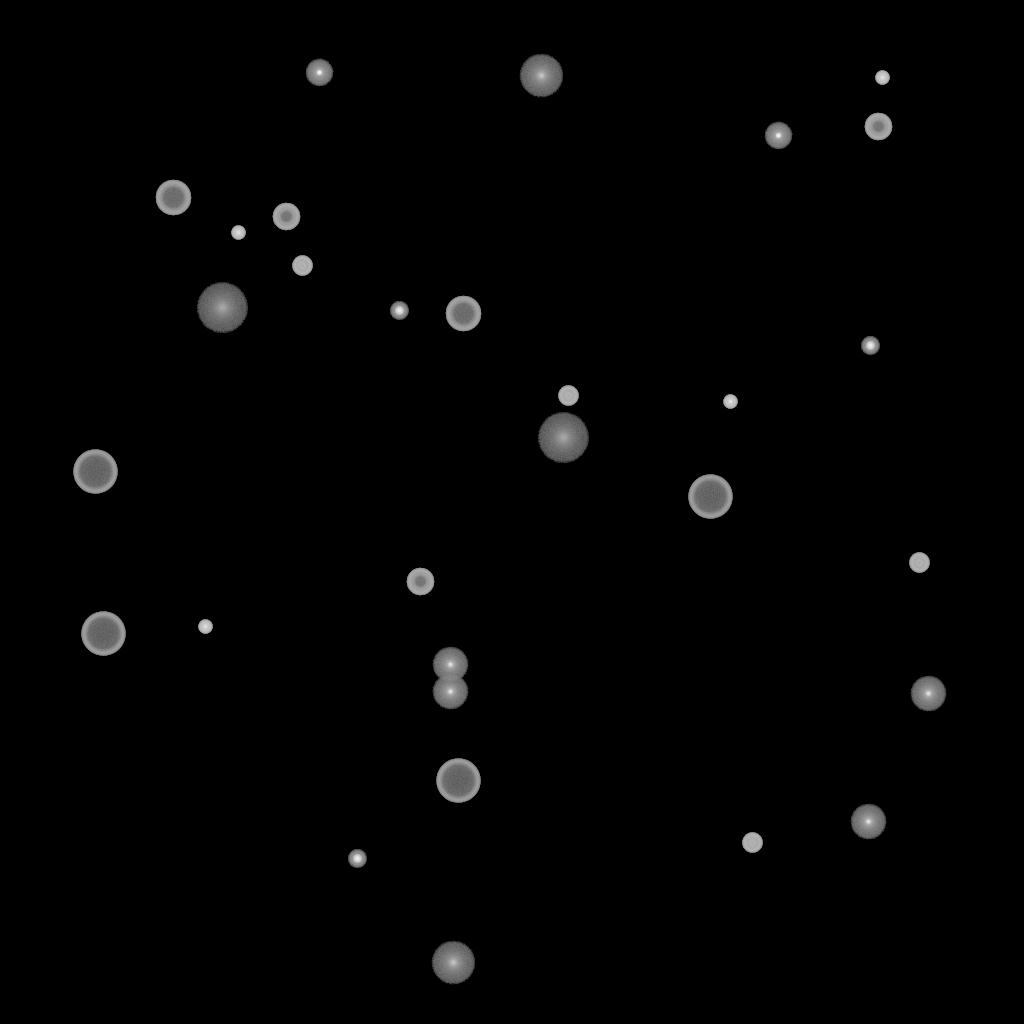depth:-10: (305, 59, 333, 87), (764, 122, 792, 150)
depth:-20: (390, 302, 408, 320), (348, 850, 366, 868), (861, 337, 879, 355)
depth:-30: (231, 226, 245, 240), (875, 71, 889, 85), (723, 395, 737, 409), (198, 620, 212, 634)
depth:-40: (909, 553, 929, 573), (292, 256, 312, 276), (558, 386, 578, 406), (742, 833, 762, 853)
depth:-50: (406, 568, 434, 596), (272, 203, 300, 231), (864, 113, 892, 141)
depth:-60: (445, 296, 481, 332), (155, 180, 191, 216)
depth:-70: (688, 475, 732, 519), (436, 759, 480, 803), (81, 612, 125, 656), (73, 450, 117, 494)
depth:0: (910, 676, 946, 712), (432, 647, 468, 683), (432, 674, 468, 710), (850, 804, 886, 840)
depth:10: (431, 941, 475, 985), (519, 54, 563, 98)
depth:20: (537, 413, 589, 463), (196, 283, 248, 333)
